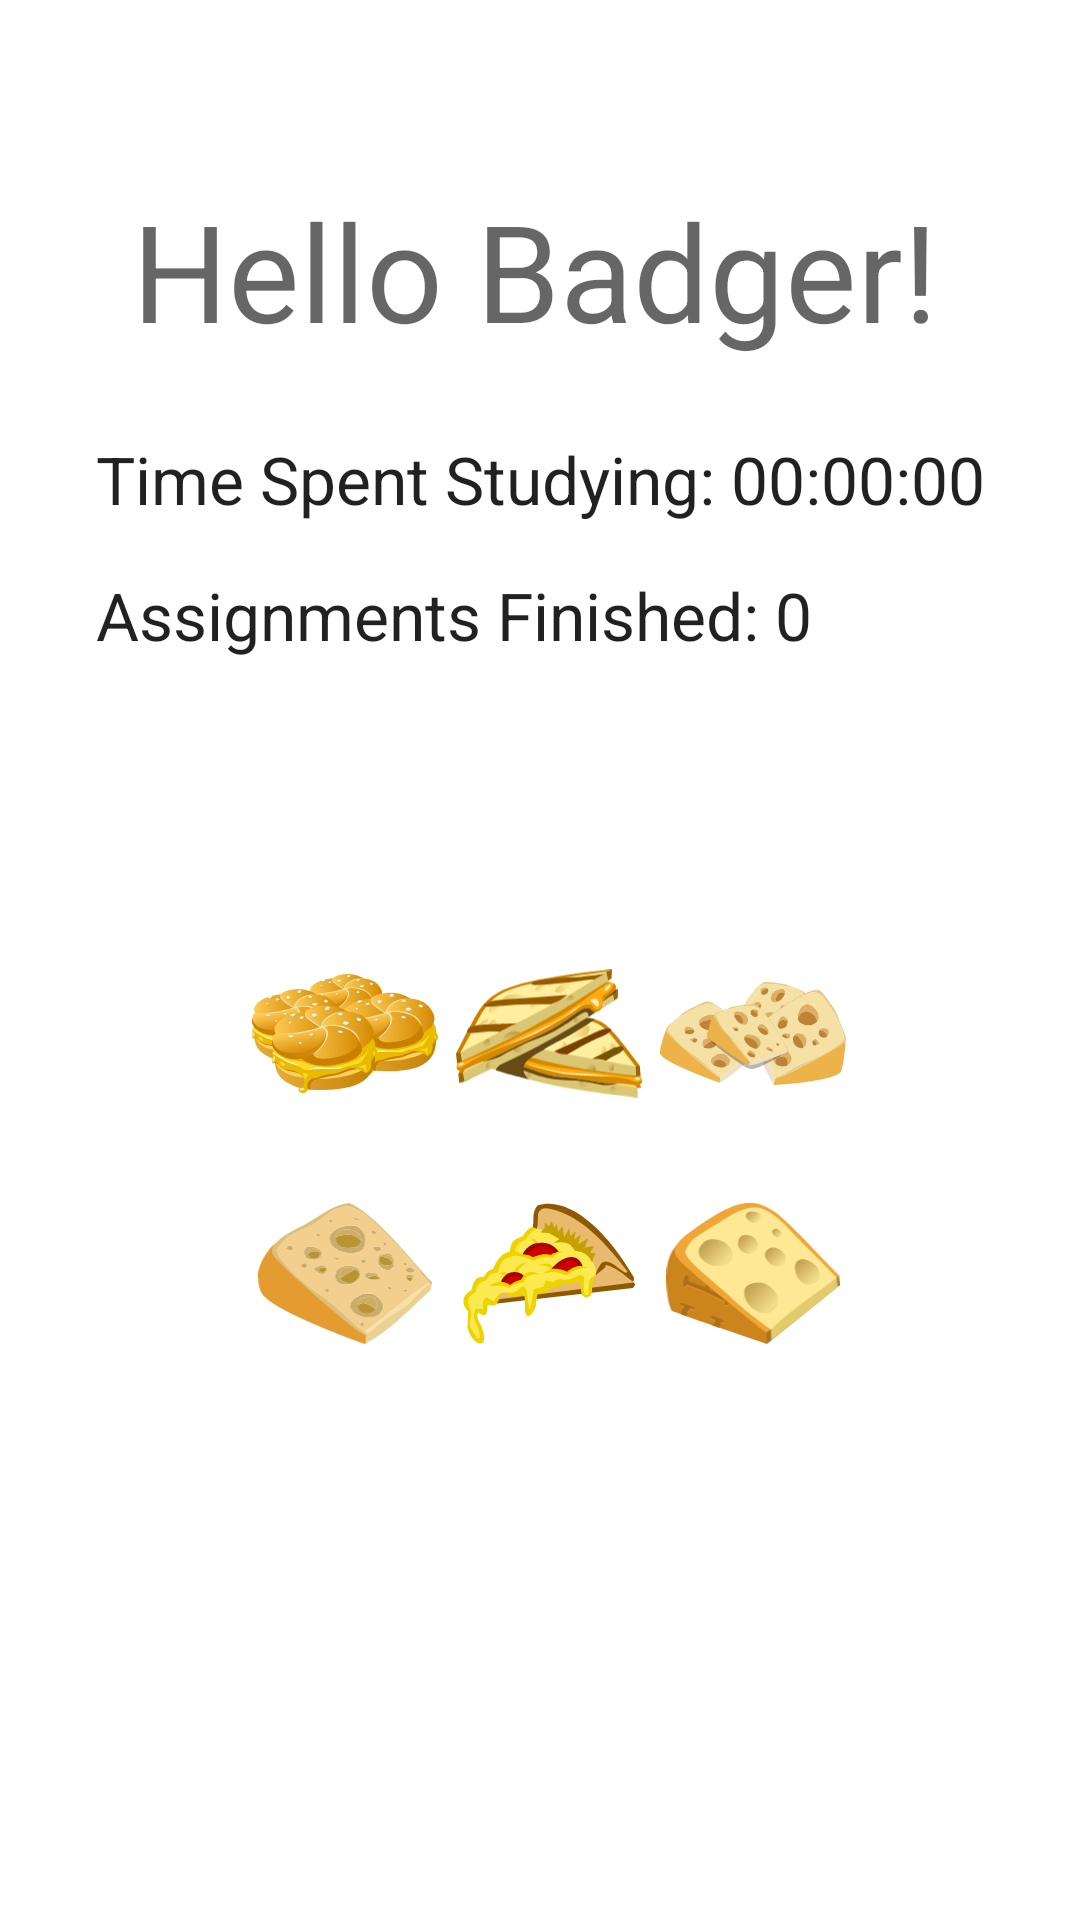

Point at icon controls on the screen. Image size 1080x1920, points as (x=x, y=y).
cheesesandwiches: (x=345, y=1033)
cheesypizza: (x=549, y=1273)
food cheese very stinky: (x=345, y=1273)
grilledcheese: (x=549, y=1033)
